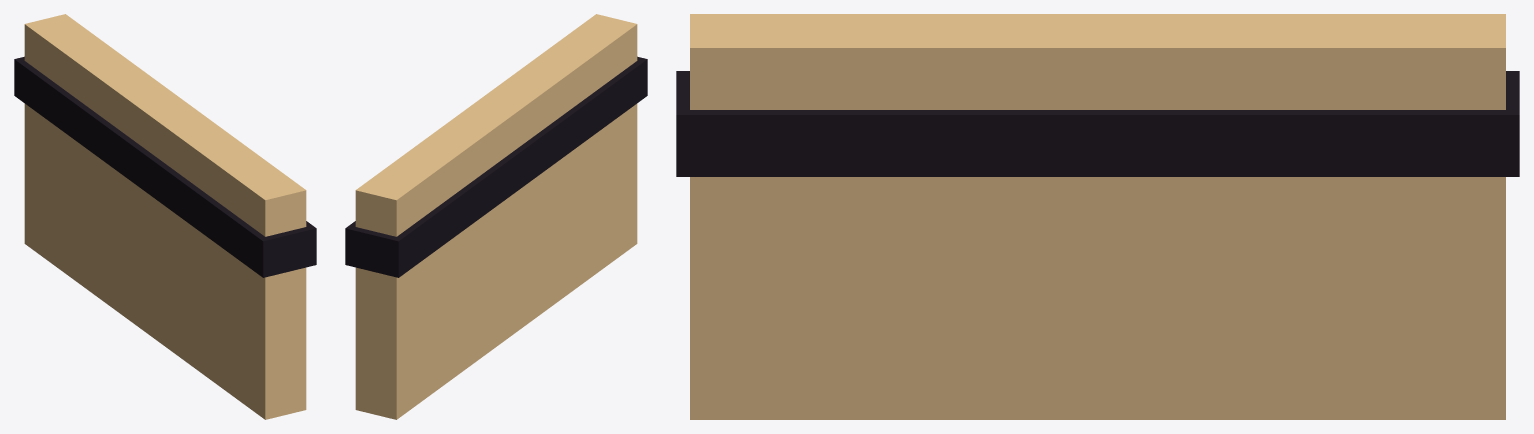
Rendered from Wall.fbx.
3 views of the same model, side by side, from view 1: azimuth 30°, elevation 25°; view 2: azimuth 150°, elevation 25°; view 3: azimuth 270°, elevation 25° (orthographic). The views are drawn at different scales.
Parts seen in each view (by area): view 1: Wall; view 2: Wall; view 3: Wall.
Part boxes in pixels (x1,y1,x2,y2): Wall: [14, 14, 316, 419]; Wall: [345, 14, 647, 419]; Wall: [676, 14, 1519, 419].
Size of the model in its own units: 102 by 400 by 822.
